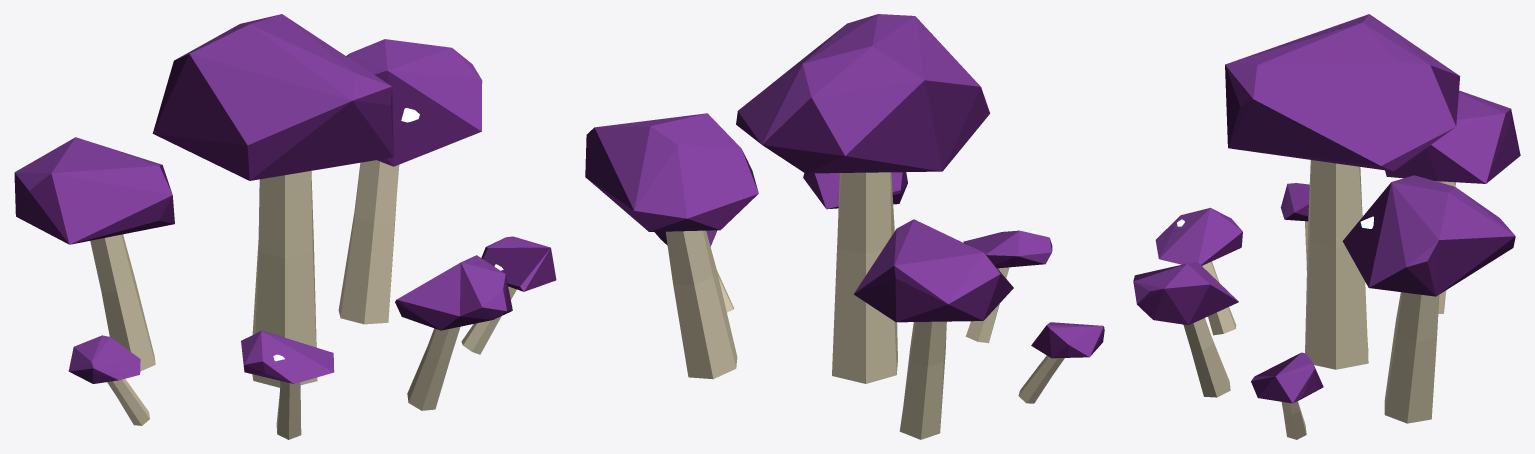
Rendered from mushrooms.glb.
3 views of the same model, side by side, from view 1: azimuth 30°, elevation 25°; view 2: azimuth 150°, elevation 25°; view 3: azimuth 270°, elevation 25° (orthographic). The views are drawn at different scales.
Visible parts, largest first — view 1: Mushrooms; view 2: Mushrooms; view 3: Mushrooms.
Part boxes in pixels (bbox=[...]): Mushrooms: bbox=[14, 14, 556, 439]; Mushrooms: bbox=[585, 14, 1104, 439]; Mushrooms: bbox=[1133, 14, 1520, 439].
Size of the model in its own units: 1.27 by 0.9094 by 0.973.
